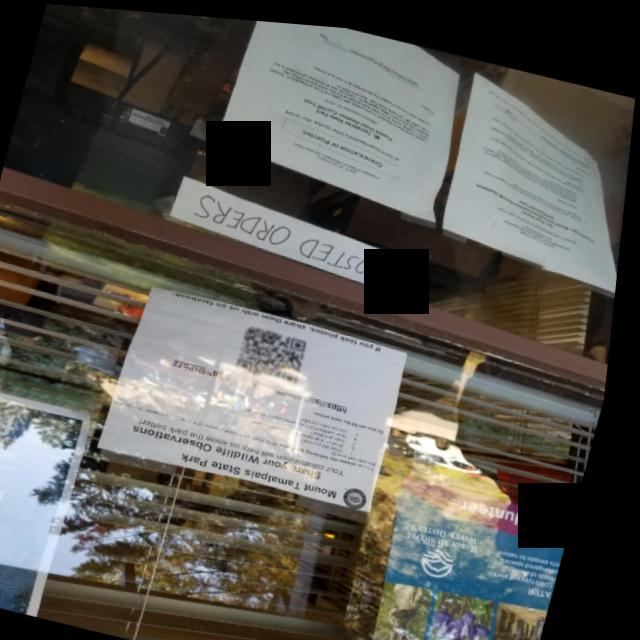QR_CODE: (222, 307, 340, 401)
